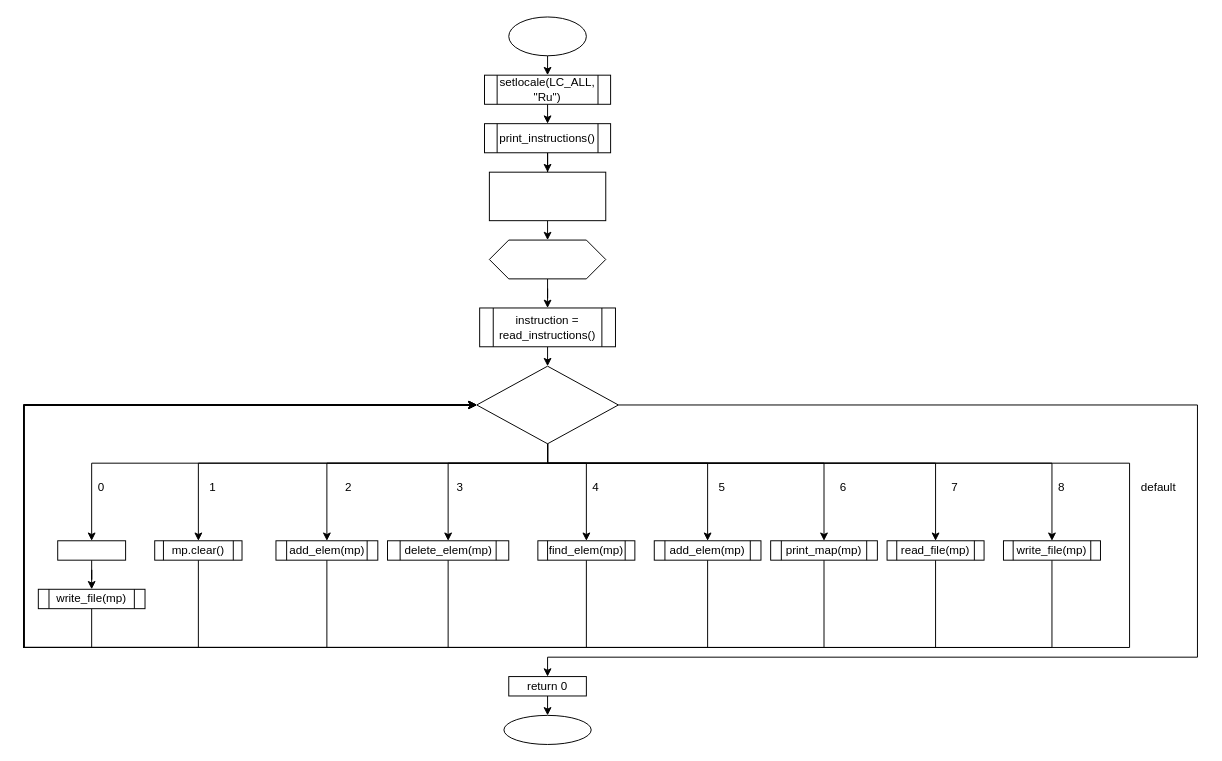
The diagram is 1222 pixels wide and 761 high, and some of its shapes have lost their labels. The shapes that lost their labels are listed below. From the top down, each one's centre as x and y in pixels, then its label:
At point (547, 36): "Начало".
At point (547, 196): "map<string, info>mp bool f = true".
At point (547, 259): "while(f)".
At point (547, 404): "switch(instruction)".
At point (91, 550): "f = false".
At point (547, 729): "конец".
